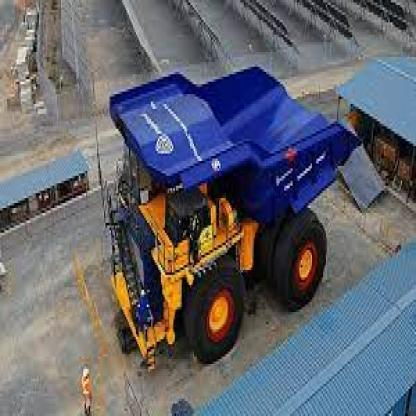dump_truck: (103, 52, 366, 371)
